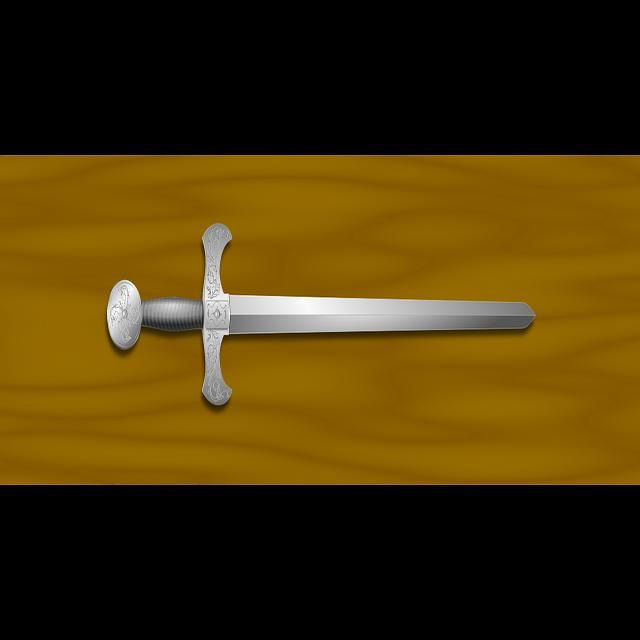long sword: (103, 220, 536, 413)
